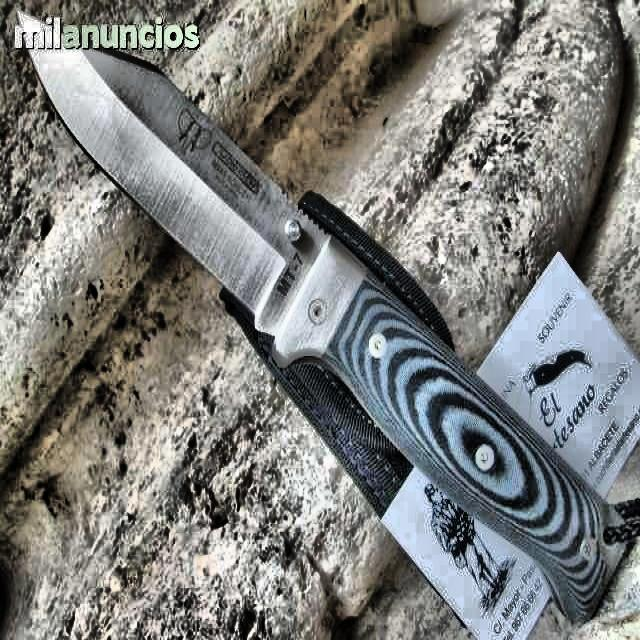knife: (16, 15, 634, 624)
